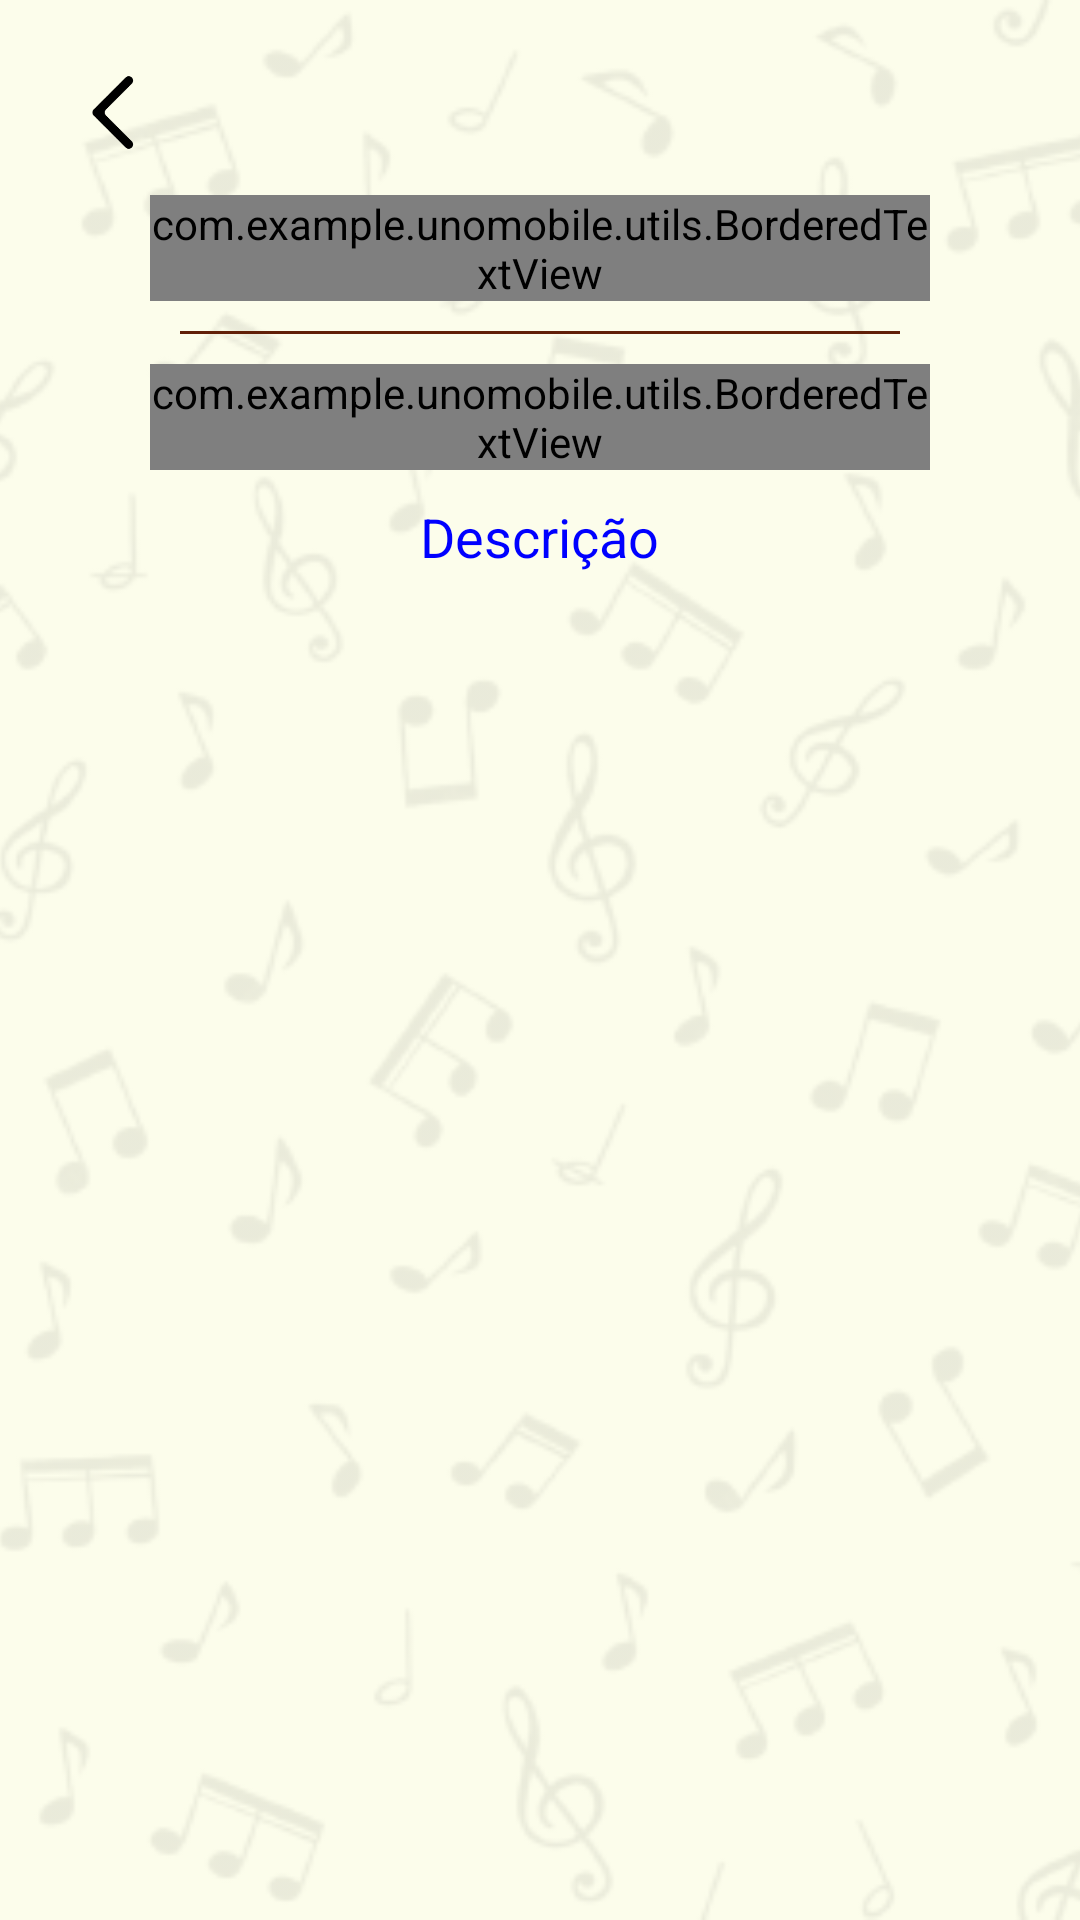

Screen size 1080 x 1920. Icon name, then its box in pixels as (x1, y1, x2, y2):
Back button: (92, 76, 133, 149)
